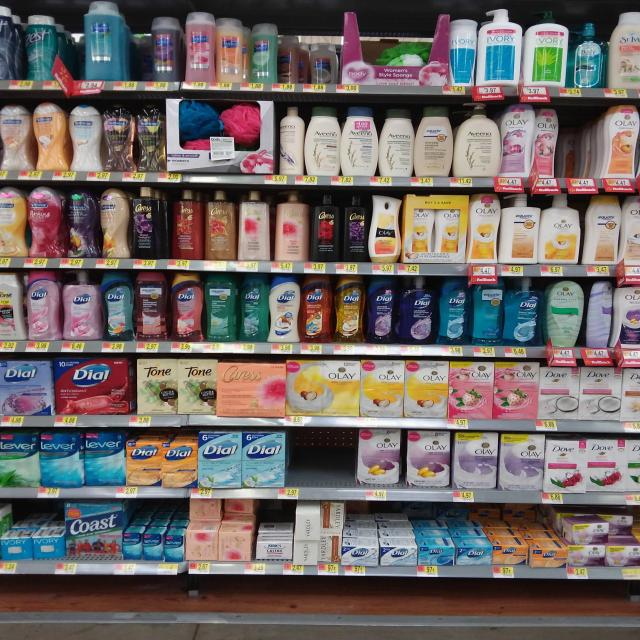void: (382, 9, 417, 100), (344, 9, 376, 99), (421, 8, 450, 99), (564, 101, 590, 192), (323, 430, 352, 509), (294, 427, 318, 508)
